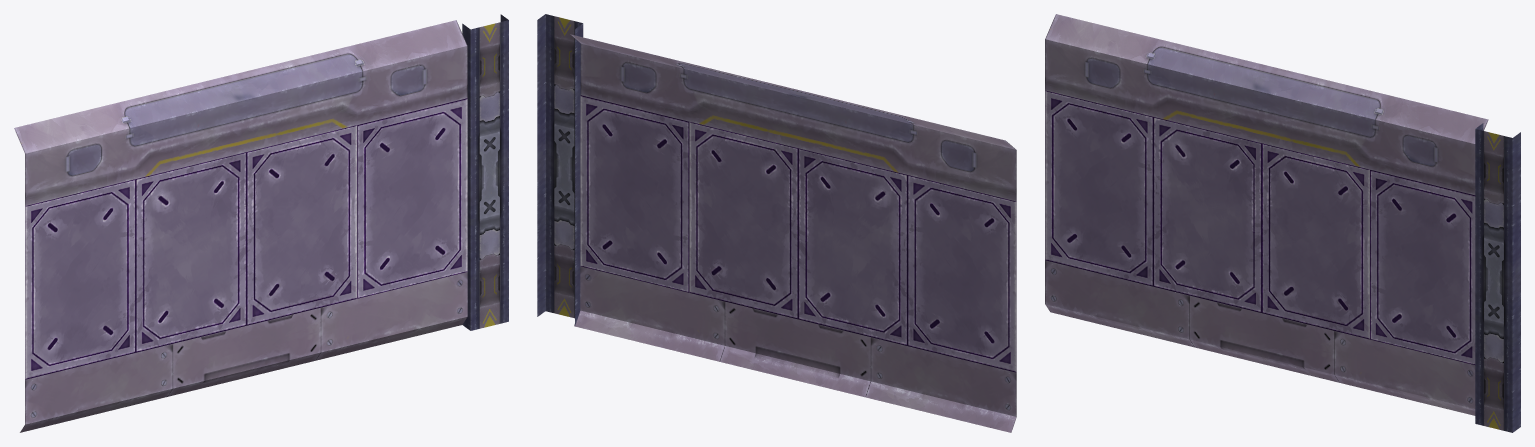
File: SM_TrimWall_02.fbx
3 renders of one model, left to right at view 1: azimuth 30°, elevation 25°; view 2: azimuth 150°, elevation 25°; view 3: azimuth 330°, elevation 25°, orthographic. The views are drawn at different scales.
Visible parts, largest first — view 1: SM_TrimWall_02; view 2: SM_TrimWall_02; view 3: SM_TrimWall_02.
Boxes of the visible parts, x1,y1,x2,y2 form: SM_TrimWall_02: [14, 14, 508, 432]; SM_TrimWall_02: [537, 14, 1016, 432]; SM_TrimWall_02: [1045, 14, 1520, 432].
Bounding box in the file's own units: 500 × 300 × 25.2.
